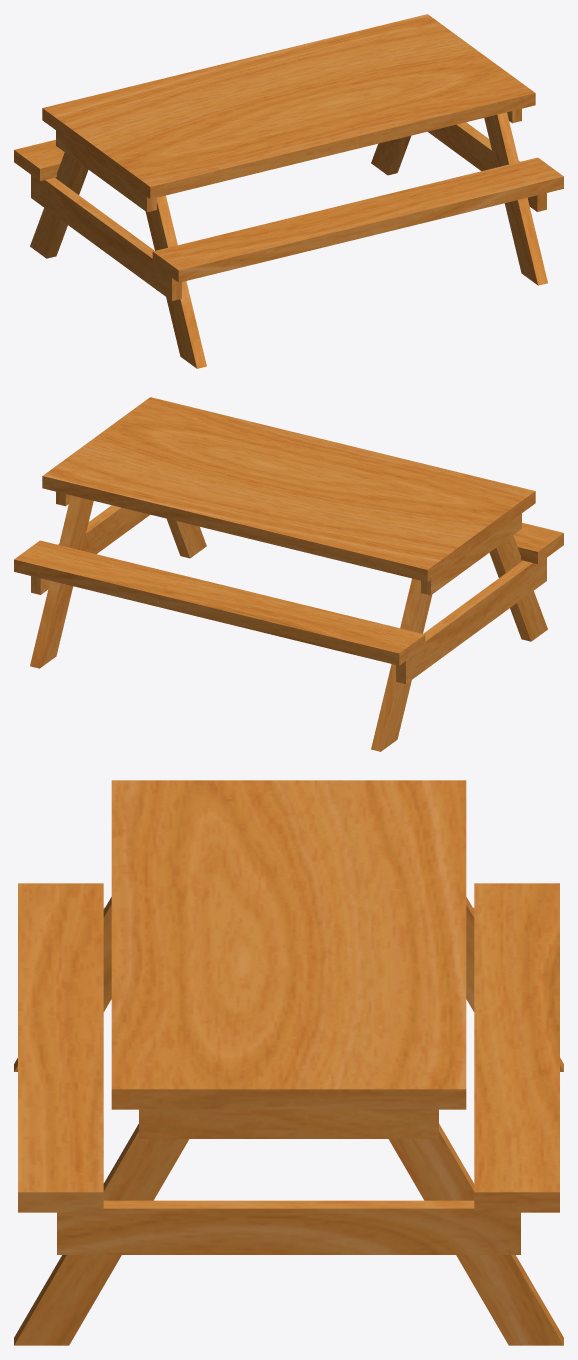
Rendered from Mesa_Picnic.obj.
The picture shows the model from 3 angles, top to bottom: view 1: azimuth 30°, elevation 25°; view 2: azimuth 150°, elevation 25°; view 3: azimuth 270°, elevation 25°; orthographic projection. The views are drawn at different scales.
Visible parts, largest first — view 1: Mesa_Picnic; view 2: Mesa_Picnic; view 3: Mesa_Picnic.
Boxes of the visible parts, x1=… form: Mesa_Picnic: x1=14, y1=14, x2=563, y2=368; Mesa_Picnic: x1=14, y1=397, x2=563, y2=751; Mesa_Picnic: x1=14, y1=780, x2=563, y2=1345.
Size of the model in its own units: 1.84 by 0.7518 by 1.39.
1 material, 1 textured.
